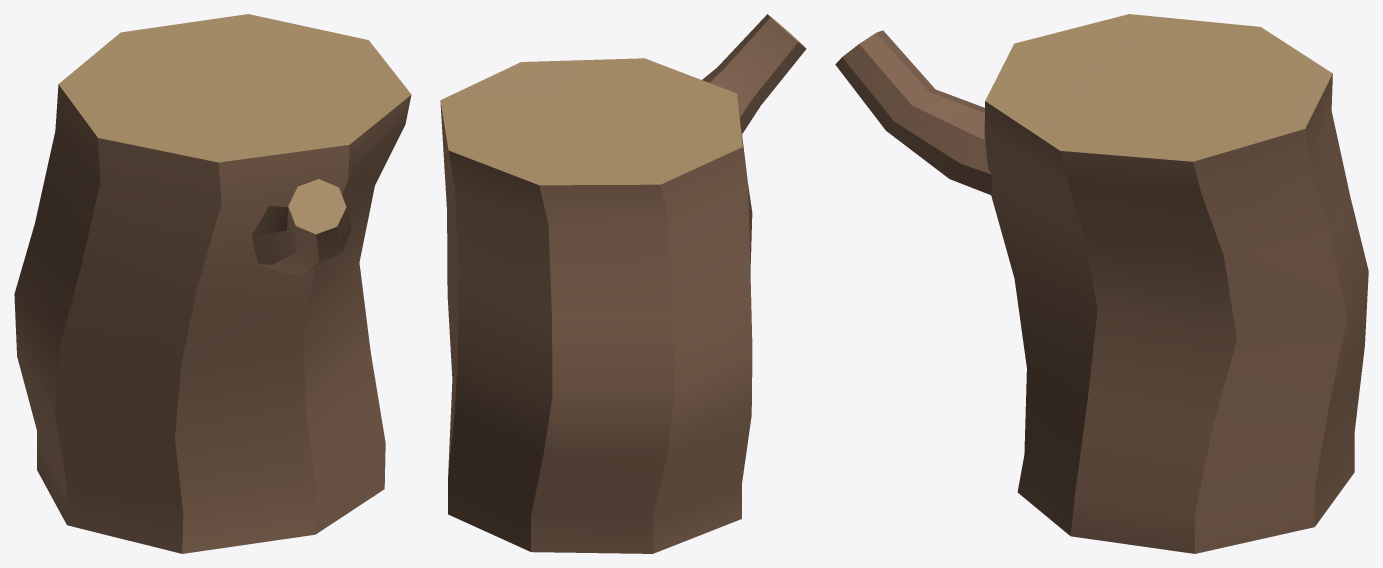
The model's file is atoll_Stump.fbx.
3 views of the same model, side by side, from view 1: azimuth 30°, elevation 25°; view 2: azimuth 150°, elevation 25°; view 3: azimuth 270°, elevation 25° (orthographic). The views are drawn at different scales.
Parts seen in each view (by area): view 1: Stump, Branch; view 2: Stump, Branch; view 3: Stump, Branch.
Boxes of the visible parts, bbox=[...] form: Stump: bbox=[14, 14, 411, 553]; Branch: bbox=[252, 179, 351, 275]; Stump: bbox=[440, 58, 752, 553]; Branch: bbox=[702, 14, 806, 134]; Stump: bbox=[984, 14, 1368, 553]; Branch: bbox=[835, 30, 991, 194].
Bounding box in the file's own units: 54.51 × 67.28 × 76.04.
